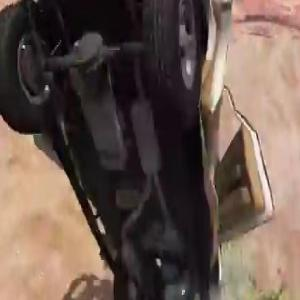critical: (0, 0, 270, 300)
